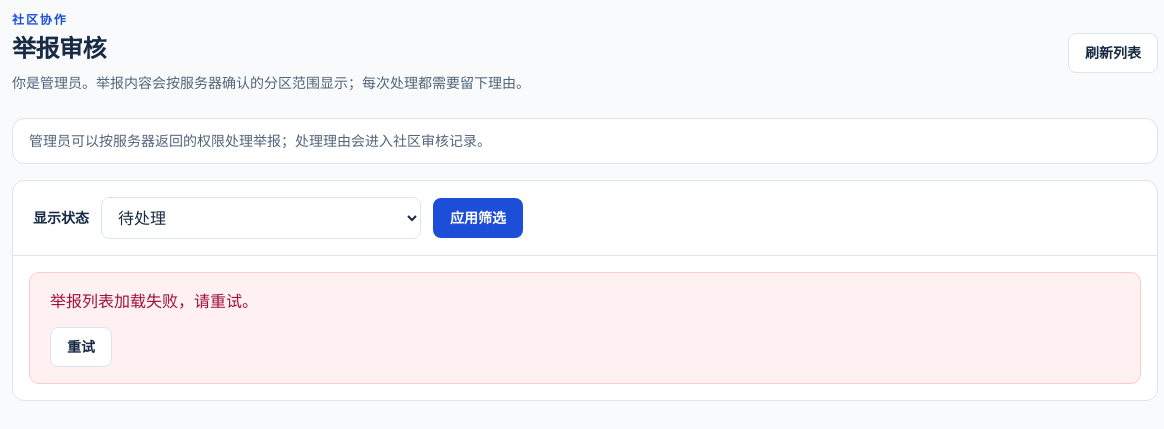
Test: AdminReports › offers a retryable list error after admin access succeeds
Check: the message "举报列表加载失败，请重试。 重试" is shown, box [29, 272, 1141, 384]
Click the button "重试". click: point(81, 347)
box: [50, 327, 112, 367]
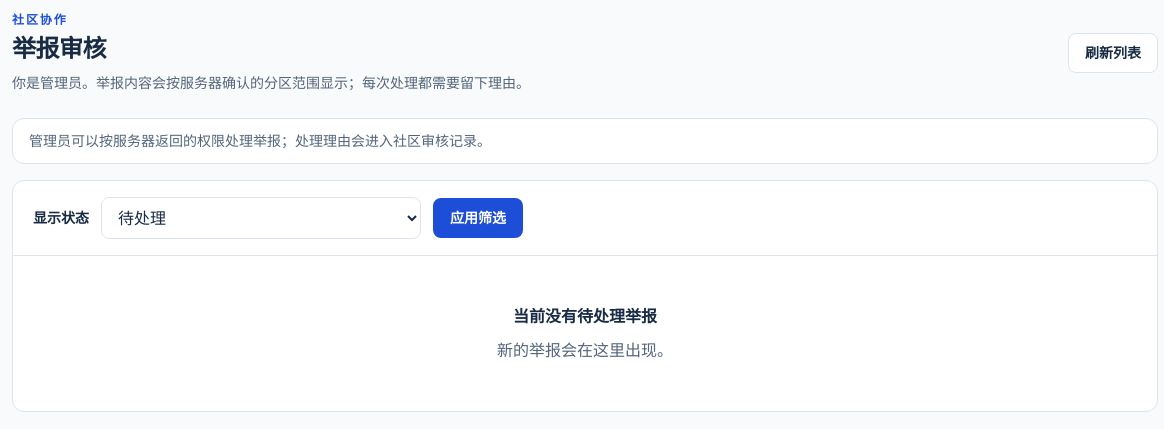
Check: the text "当前没有待处理举报" is shown, box [513, 306, 657, 326]
